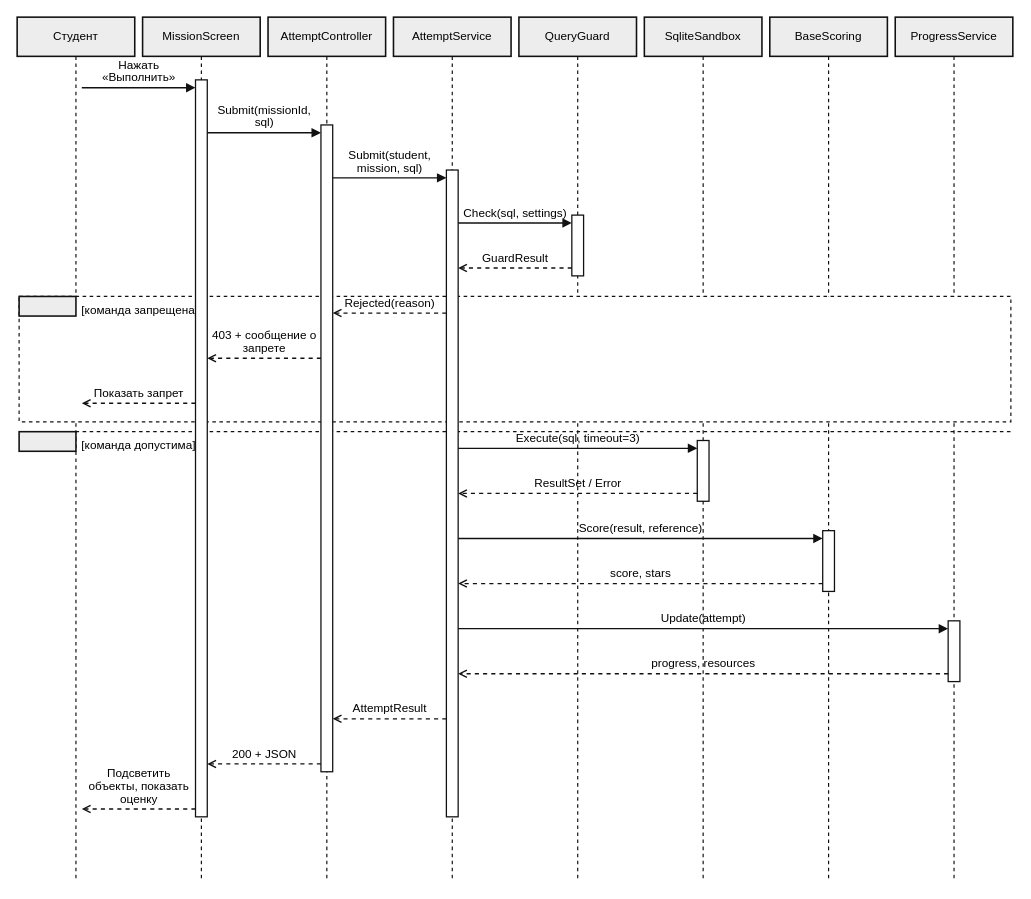
This 1031x899 diagram has some shape labels left out. The shapes that lost their labels are listed below. From the top down, each one's centre as x and y in pixels, then its label:
[47,305]: alt
[47,441]: else
